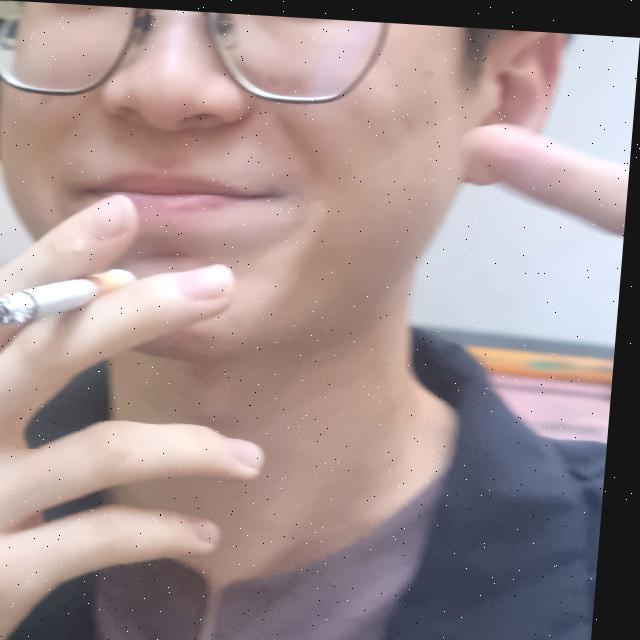cigarette: (0, 261, 142, 337)
